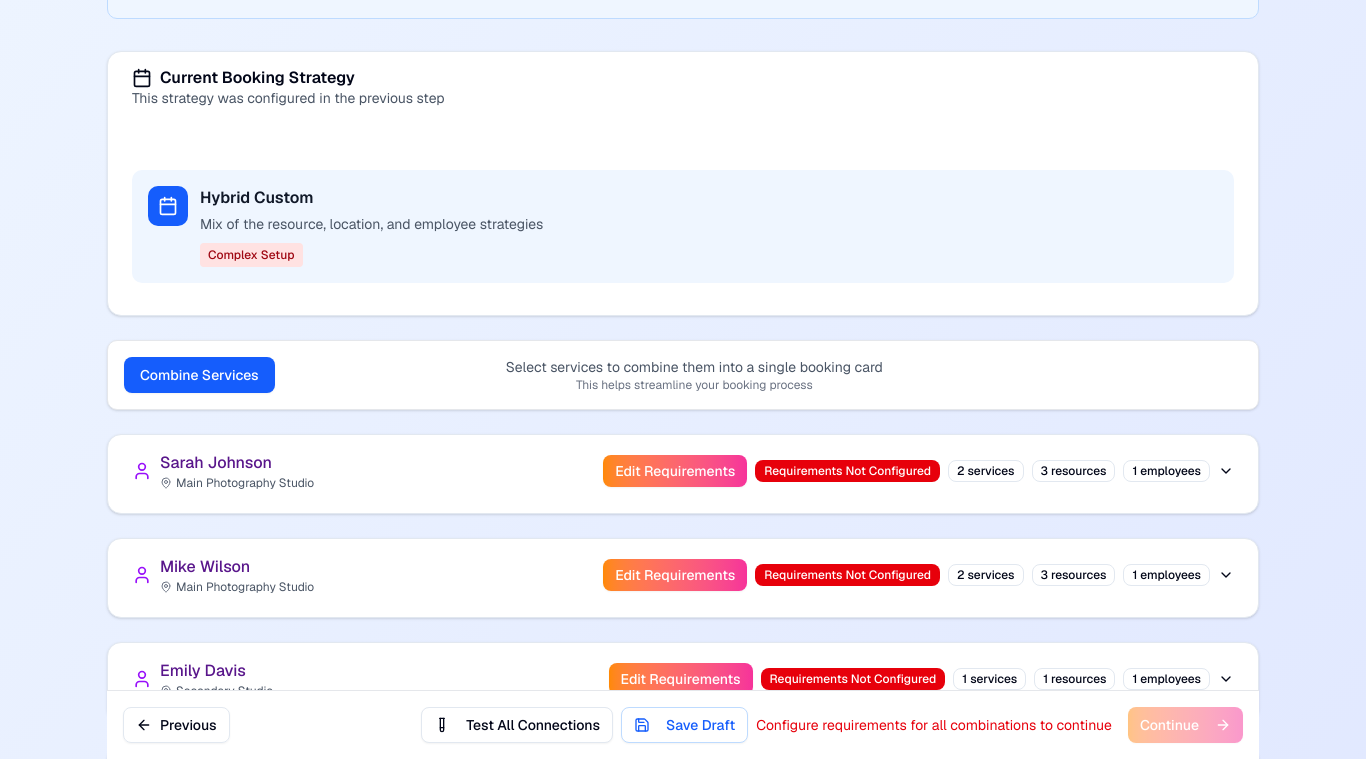
Hybrid Strategy Integration Tests › handles combining mode for hybrid strategy with multiple combinations
(page scrolled)
Note: Enable combining mode
Click the button with test id "combine-services-button".
click(199, 375)  # box [124,357,275,393]
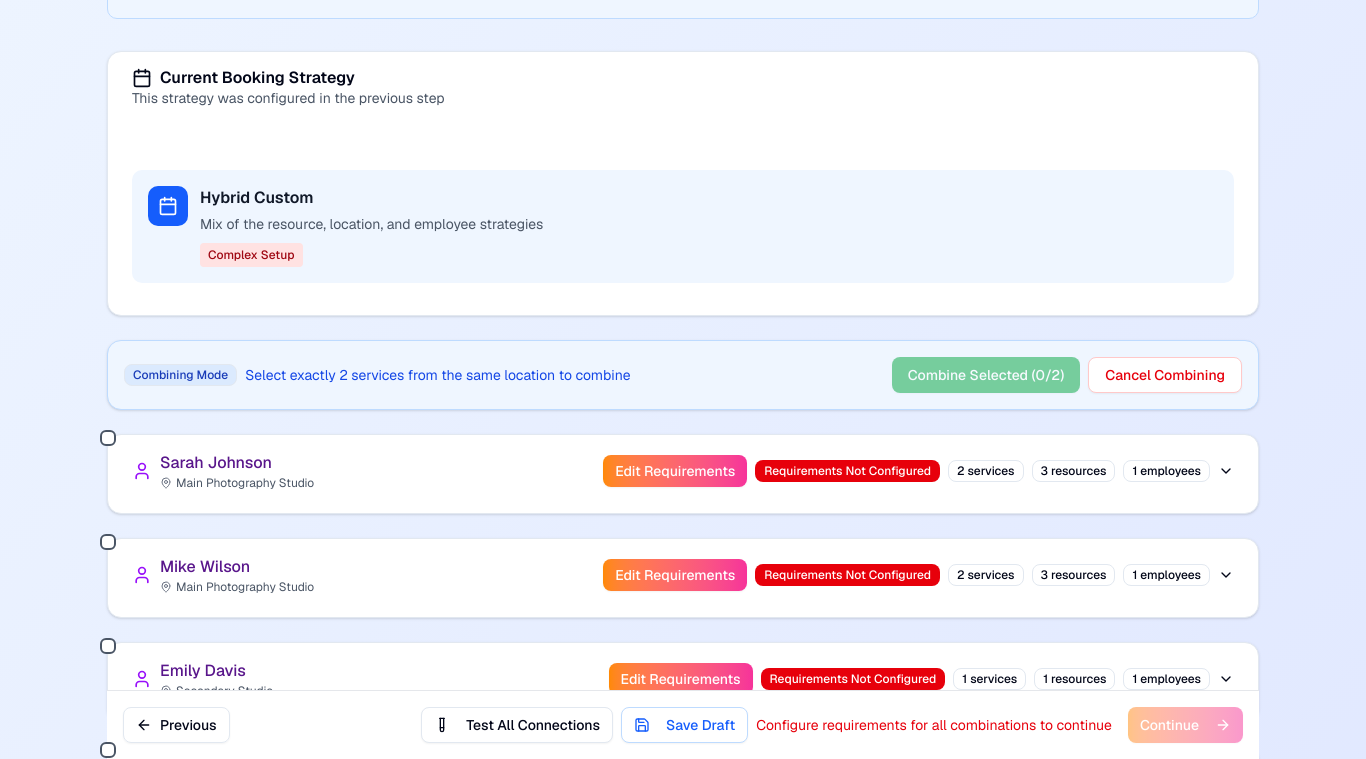
Check: the text "Select exactly 2 services from the same location to combine" is shown, box [245,365,631,385]
